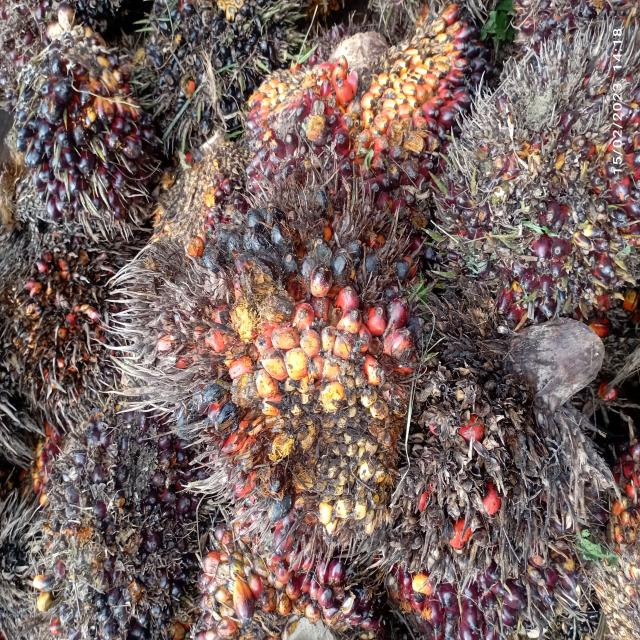fraksi 00: (31, 402, 218, 640), (3, 0, 152, 241)
fraksi 1: (439, 27, 640, 344)
fraksi 3: (234, 54, 361, 201)
fraksi 4: (144, 201, 461, 583), (10, 246, 126, 380)
